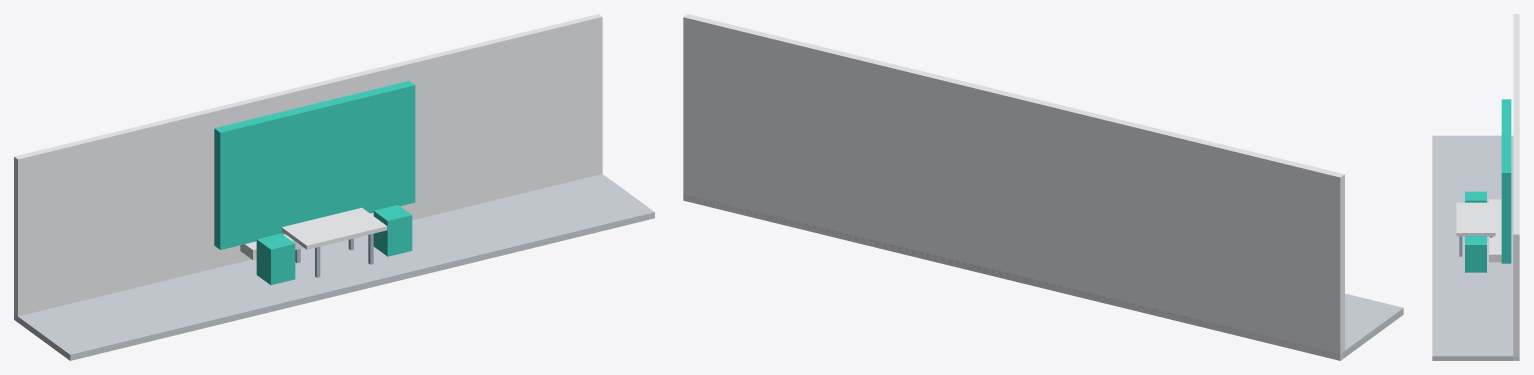
3 views of the same model, side by side, from view 1: azimuth 30°, elevation 25°; view 2: azimuth 150°, elevation 25°; view 3: azimuth 270°, elevation 25° (orthographic). The views are drawn at different scales.
Visible parts, largest first — view 1: Exhibition Booth Concept; view 2: Exhibition Booth Concept; view 3: Exhibition Booth Concept.
Boxes of the visible parts, x1,y1,x2,y2 form: Exhibition Booth Concept: (14, 14, 654, 360); Exhibition Booth Concept: (683, 14, 1403, 360); Exhibition Booth Concept: (1432, 14, 1519, 360).
Size of the model in its own units: 12 by 3.2 by 2.
